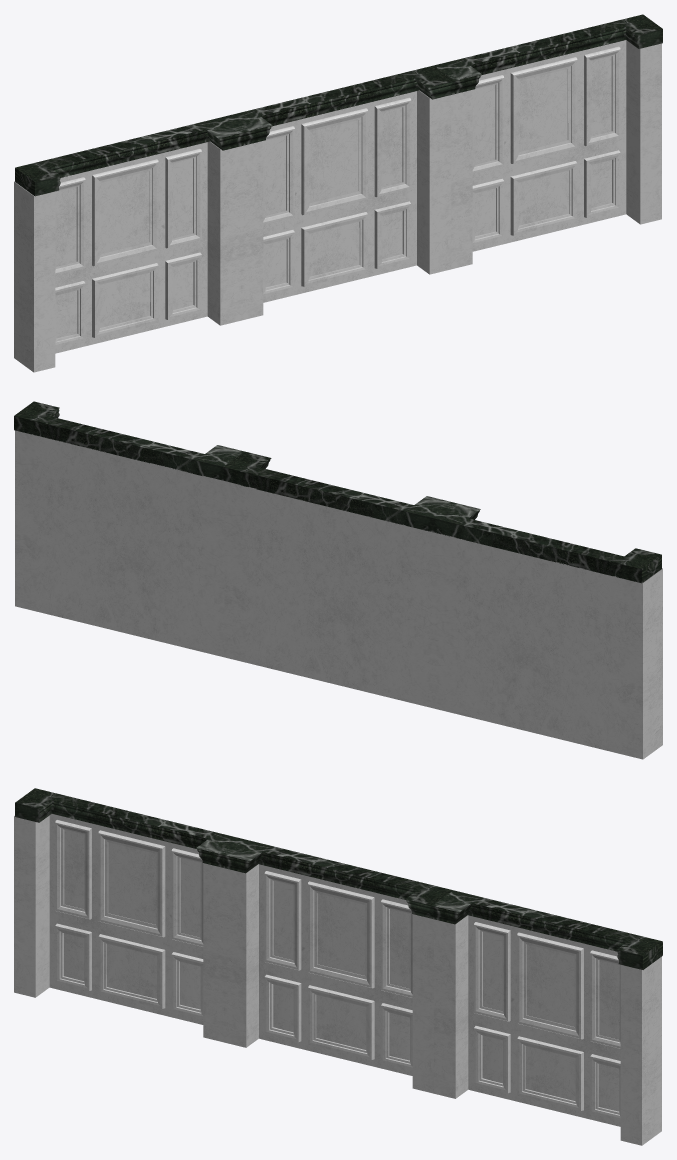
The model's file is LongWall1.fbx.
The picture shows the model from 3 angles, top to bottom: view 1: azimuth 30°, elevation 25°; view 2: azimuth 150°, elevation 25°; view 3: azimuth 330°, elevation 25°; orthographic projection.
Visible parts, largest first — view 1: polySurface8, polySurface9; view 2: polySurface8, polySurface9; view 3: polySurface8, polySurface9.
Boxes of the visible parts, <box> form: polySurface8: <box>14,40,661,372</box>; polySurface9: <box>15,14,662,196</box>; polySurface8: <box>15,430,662,759</box>; polySurface9: <box>14,401,661,583</box>; polySurface8: <box>14,814,661,1145</box>; polySurface9: <box>15,788,662,969</box>.
Size of the model in its own units: 97.15 by 28.06 by 5.68.
